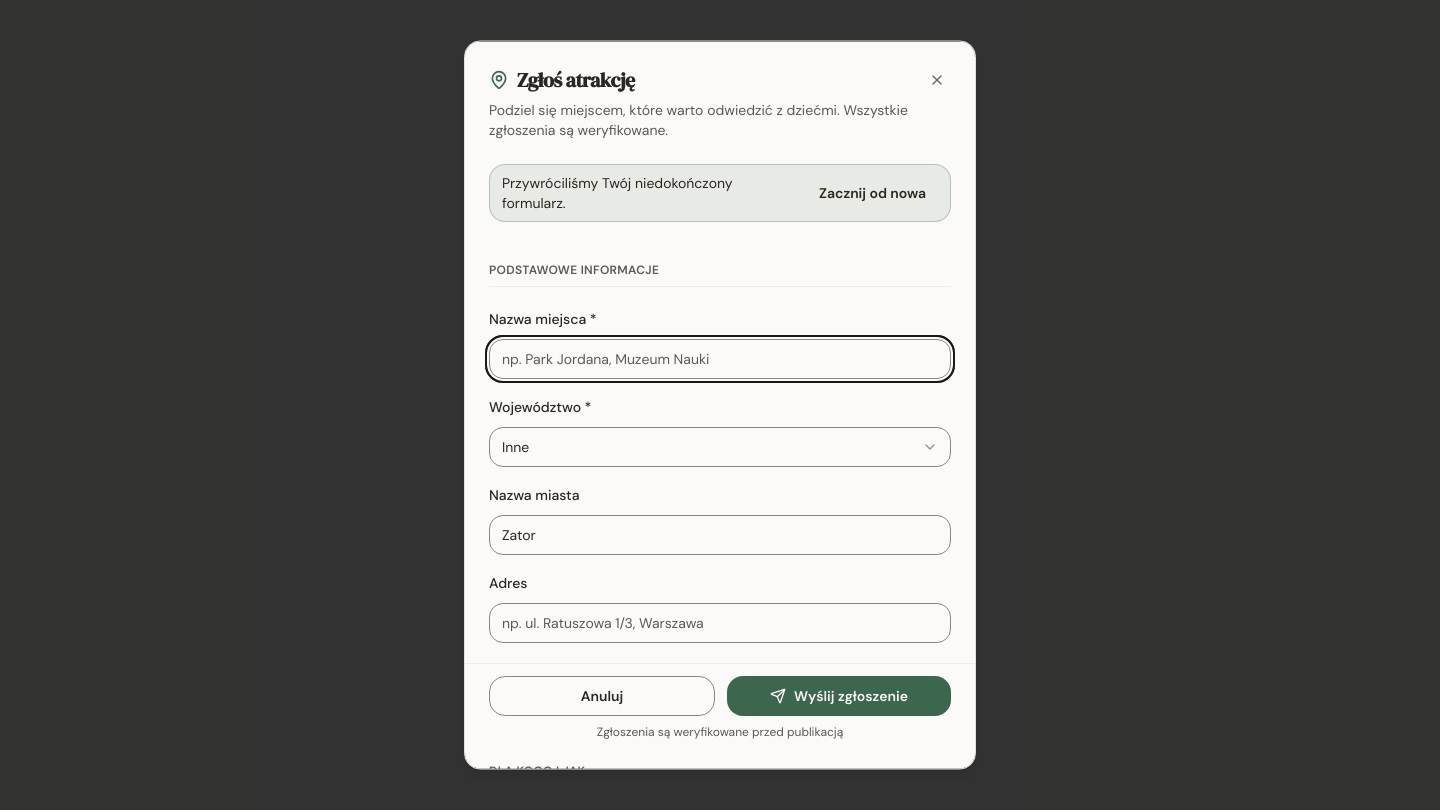
Test: AN-8-015 — „Zgłoś atrakcję”: nazwa min. 2 znaki po trim (CHECK bazy) › pusta nazwa -> dalej „Podaj nazwę miejsca” (pierwszy błąd)
The width and height of the screenshot is (1440, 810).
Check: the text "Przywróciliśmy Twój niedokończony formularz." is shown, box [502,174,733,212]
Click the button "Wyślij zgłoszenie" at [839, 696], box [727,676,951,716]
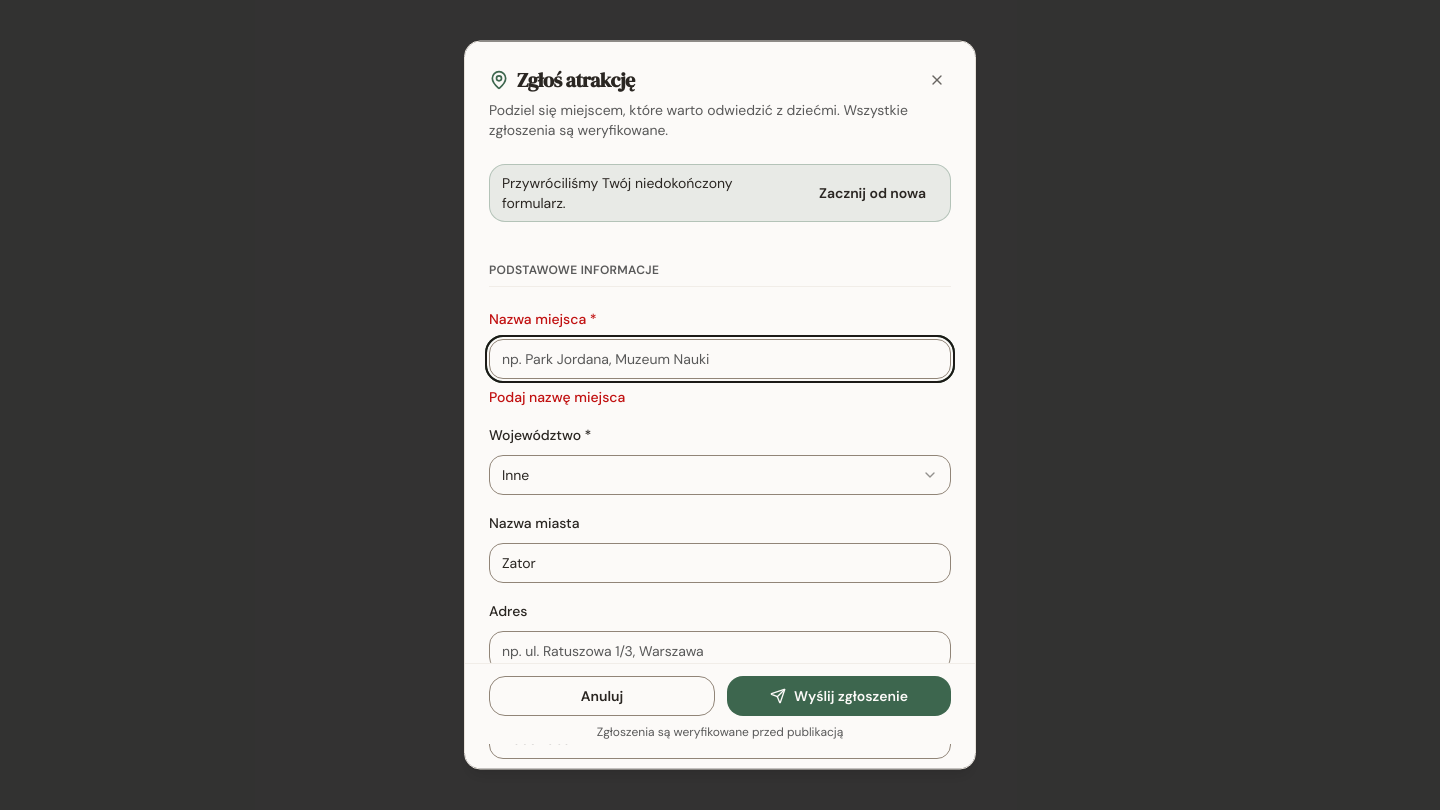
Check: the text "Podaj nazwę miejsca" is shown, box [489,388,625,406]
